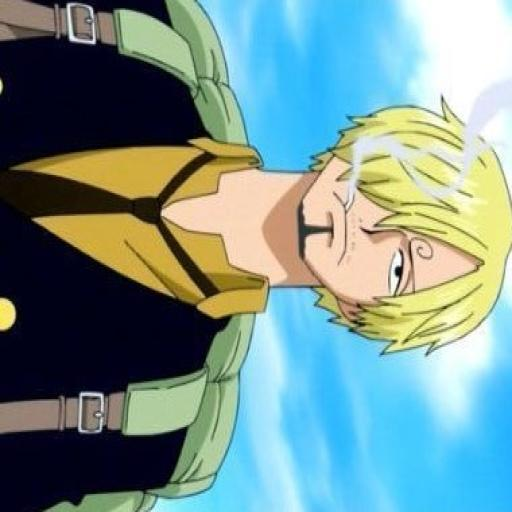sanji: (0, 86, 507, 462)
